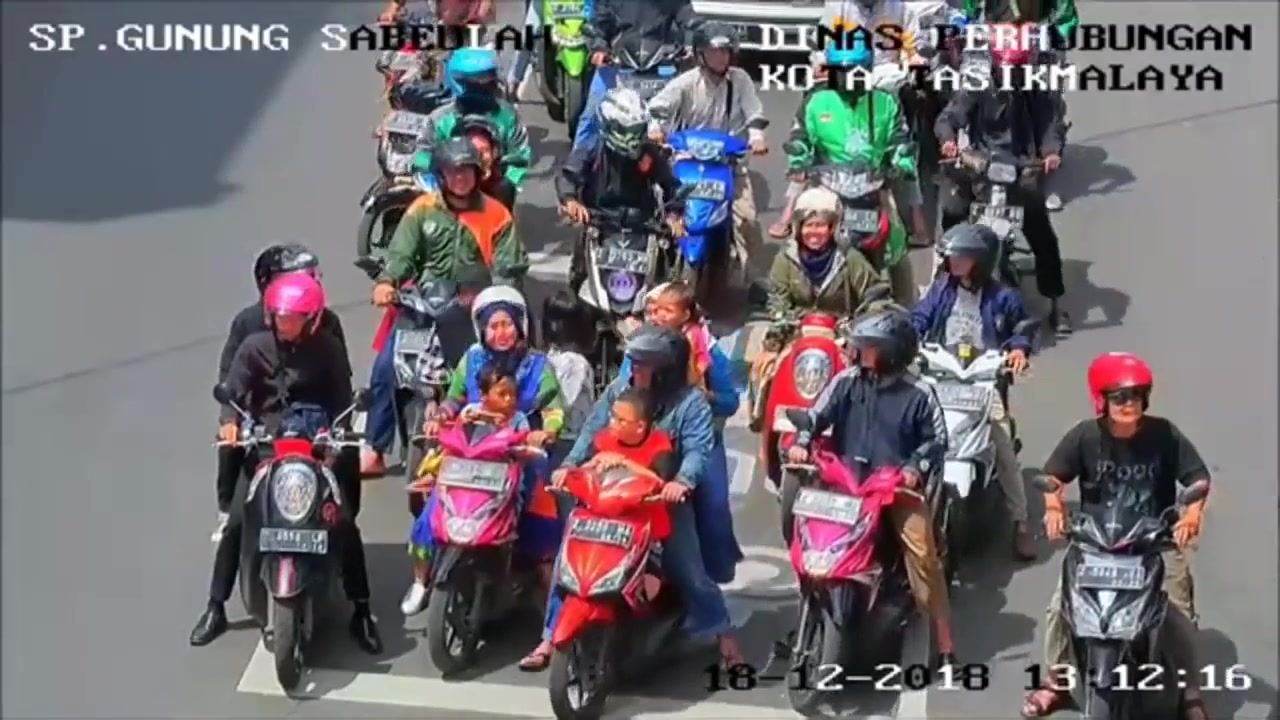person with motorcycle: (1073, 343, 1188, 686), (585, 319, 713, 623), (441, 282, 555, 613), (236, 272, 353, 578), (826, 311, 943, 611)
person without helm: (472, 365, 526, 442), (602, 389, 656, 458)
